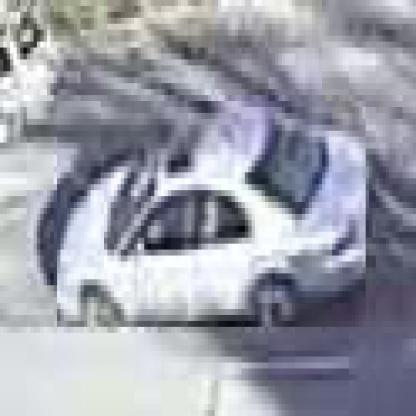car: (58, 102, 370, 334)
